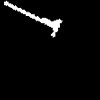half_double_crochet: (4, 1, 61, 36)
